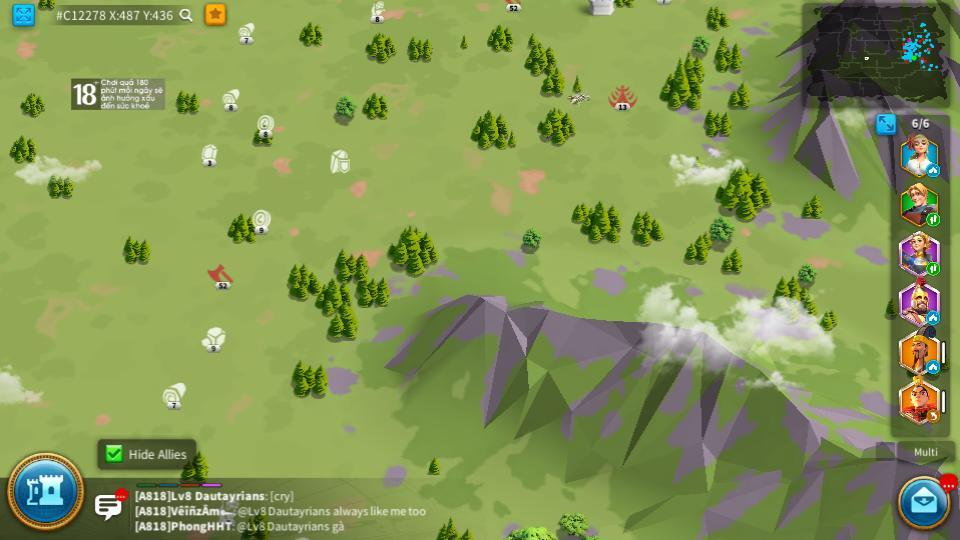gem-z-out: (197, 144, 220, 166)
march_idle: (927, 312, 940, 324), (927, 362, 940, 373), (927, 166, 941, 176)
march_marching: (925, 263, 938, 275), (927, 216, 939, 227)
march_returning: (926, 411, 940, 422)
